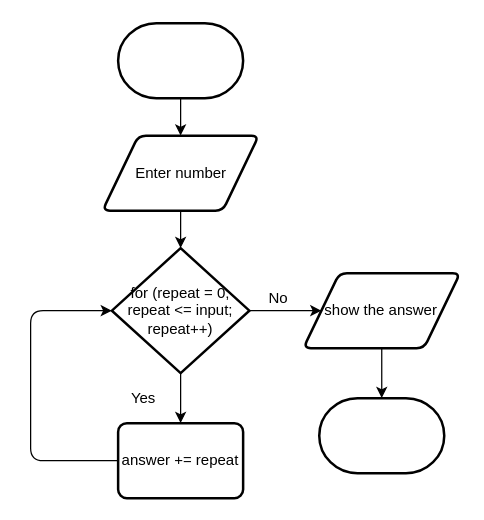
Some shapes in this 484 by 520 pixel diagram are drawn without their labels. Each missing label, with the centre of its shape:
"Start" goes at point 180,60.
"Stop" goes at point 381,435.
